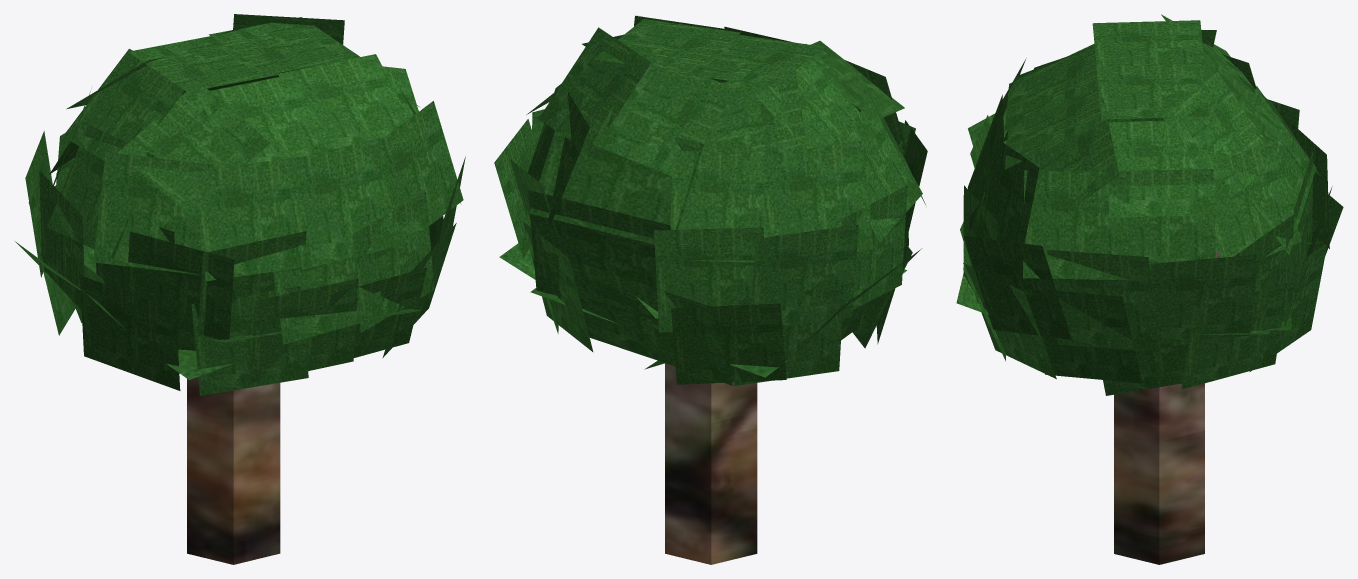
File: tree3.obj
3 views of the same model, side by side, from view 1: azimuth 30°, elevation 25°; view 2: azimuth 150°, elevation 25°; view 3: azimuth 270°, elevation 25° (orthographic). The views are drawn at different scales.
Visible parts, largest first — view 1: miki:pCylinder1, pPlane50, pPlane51, pPlane52, pPlane63, pPlane65, pPlane30, pPlane5, pPlane49, pPlane64, pPlane62, pPlane19 (+18 smaller); view 2: miki:pCylinder1, pPlane59, pPlane54, pPlane38, pPlane39, pPlane45, pPlane40, pPlane12, pPlane10, pPlane55, pPlane60, pPlane58 (+16 smaller); view 3: miki:pCylinder1, pPlane48, pPlane29, pPlane56, pPlane28, pPlane27, pPlane58, pPlane46, pPlane47, pPlane57, pPlane14, pPlane61 (+19 smaller).
Part boxes in pixels (box(x1,y1,x2,y2)): miki:pCylinder1: box(187, 377, 280, 564); pPlane50: box(285, 138, 397, 269); pPlane51: box(193, 156, 311, 281); pPlane52: box(117, 88, 270, 214); pPlane63: box(93, 152, 210, 274); pPlane65: box(278, 54, 419, 148); pPlane30: box(125, 231, 234, 342); pPlane5: box(80, 275, 180, 390); pPlane49: box(369, 101, 463, 248); pPlane64: box(196, 74, 333, 177); pPlane62: box(63, 48, 184, 160); pPlane19: box(250, 278, 358, 383); miki:pCylinder1: box(665, 363, 757, 564); pPlane59: box(592, 52, 735, 181); pPlane54: box(759, 140, 873, 251); pPlane38: box(751, 224, 858, 326); pPlane39: box(528, 190, 670, 320); pPlane45: box(529, 109, 704, 244); pPlane40: box(654, 227, 764, 332); pPlane12: box(545, 251, 732, 385); pPlane10: box(671, 303, 786, 384); pPlane55: box(670, 150, 780, 262); pPlane60: box(702, 66, 809, 187); pPlane58: box(538, 27, 651, 154); miki:pCylinder1: box(1114, 250, 1219, 564); pPlane48: box(1023, 170, 1129, 280); pPlane29: box(1150, 254, 1256, 343); pPlane56: box(1108, 119, 1216, 217); pPlane28: box(1047, 250, 1159, 351); pPlane27: box(964, 236, 1071, 339); pPlane58: box(1162, 72, 1265, 203); pPlane46: box(1214, 139, 1301, 257); pPlane47: box(1118, 169, 1215, 270); pPlane57: box(1096, 63, 1208, 119); pPlane14: box(1181, 283, 1287, 389); pPlane61: box(1092, 20, 1205, 72).
Bounding box in the file's own units: 7.9 × 10.28 × 7.39.
Materials: 2 (2 with a texture image).
